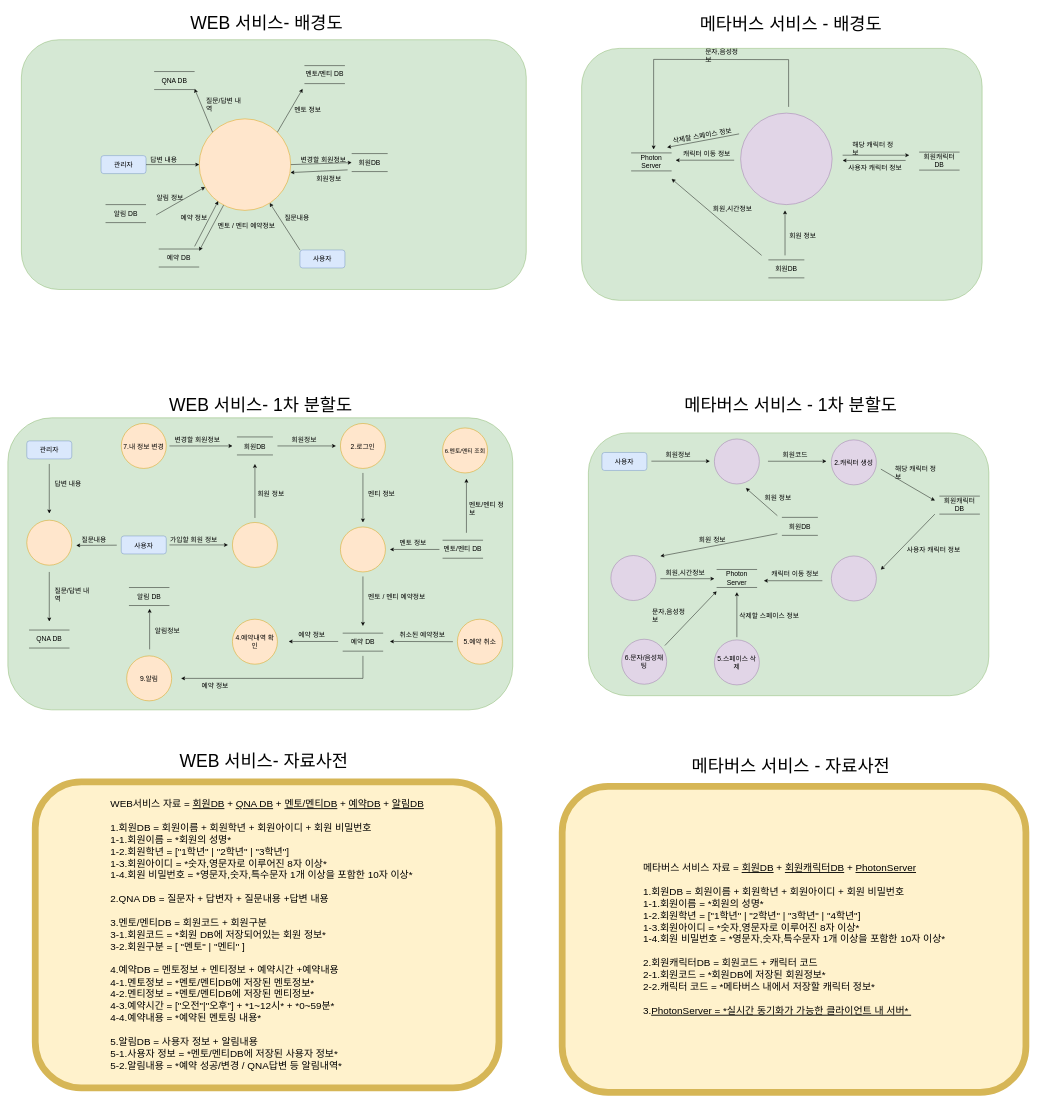
This 1051x1103 diagram has some shape labels left out. The centre of each missing label's shape, as x and y in pixels:
1.로그인: the point at 736,461
1.회원가입: the point at 254,544
3.멘토링 신청: the point at 362,549
3.캐릭터 이동: the point at 853,578
4.스페이스 생성: the point at 633,578
8.Q&A: the point at 49,542
메타버스 시스템: the point at 786,159
웹서비스 시스템: the point at 245,164
